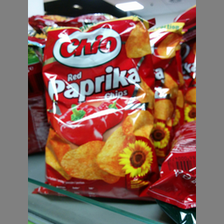chips: (40, 26, 160, 204)
